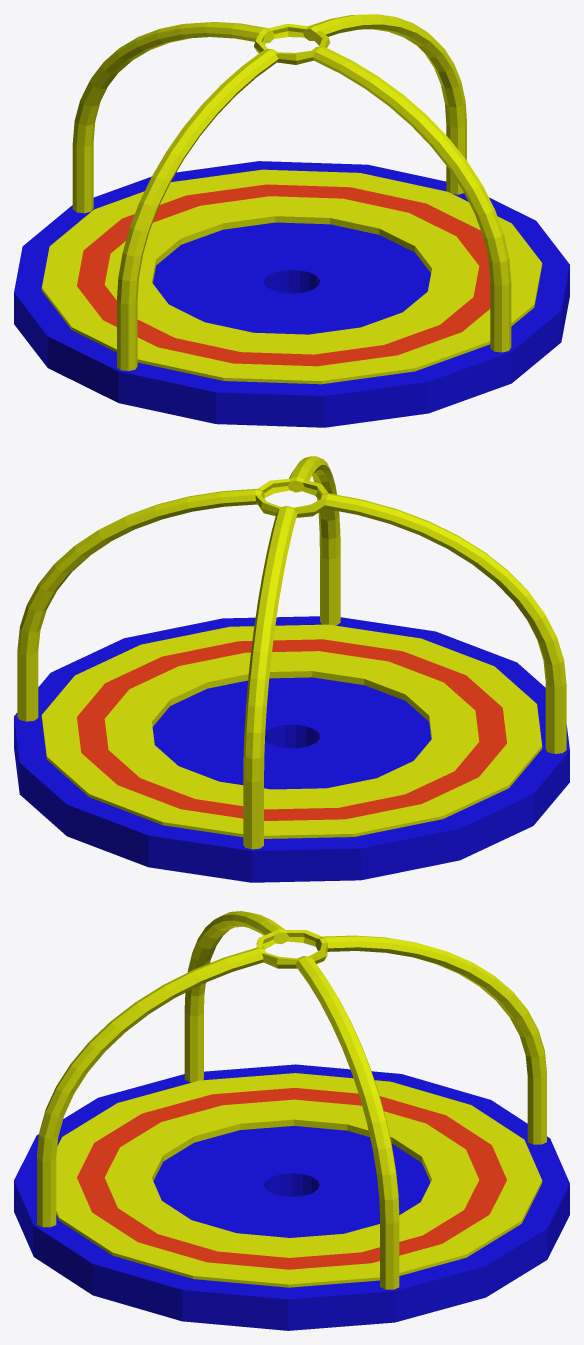
File: rueda.fbx
3 renders of one model, top to bottom at view 1: azimuth 30°, elevation 25°; view 2: azimuth 150°, elevation 25°; view 3: azimuth 270°, elevation 25°, orthographic.
Parts seen in each view (by area): view 1: obj_rueda; view 2: obj_rueda; view 3: obj_rueda.
Boxes of the visible parts, bbox=[...] form: obj_rueda: bbox=[14, 14, 569, 427]; obj_rueda: bbox=[14, 456, 569, 882]; obj_rueda: bbox=[14, 911, 569, 1330].
Bounding box in the file's own units: 437 × 235 × 437.
